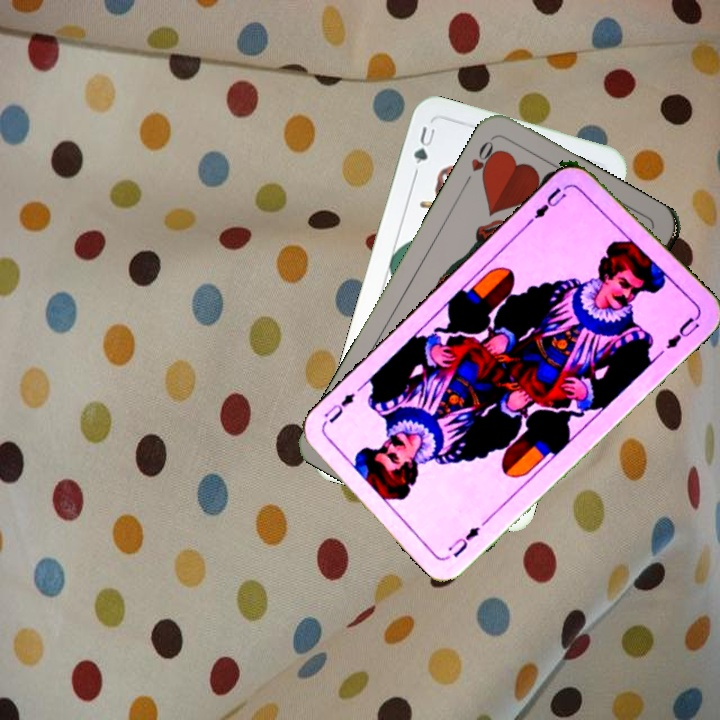EU: (524, 183, 569, 227), (445, 522, 483, 560)
GU: (409, 122, 438, 167)
HO: (460, 134, 502, 188)
